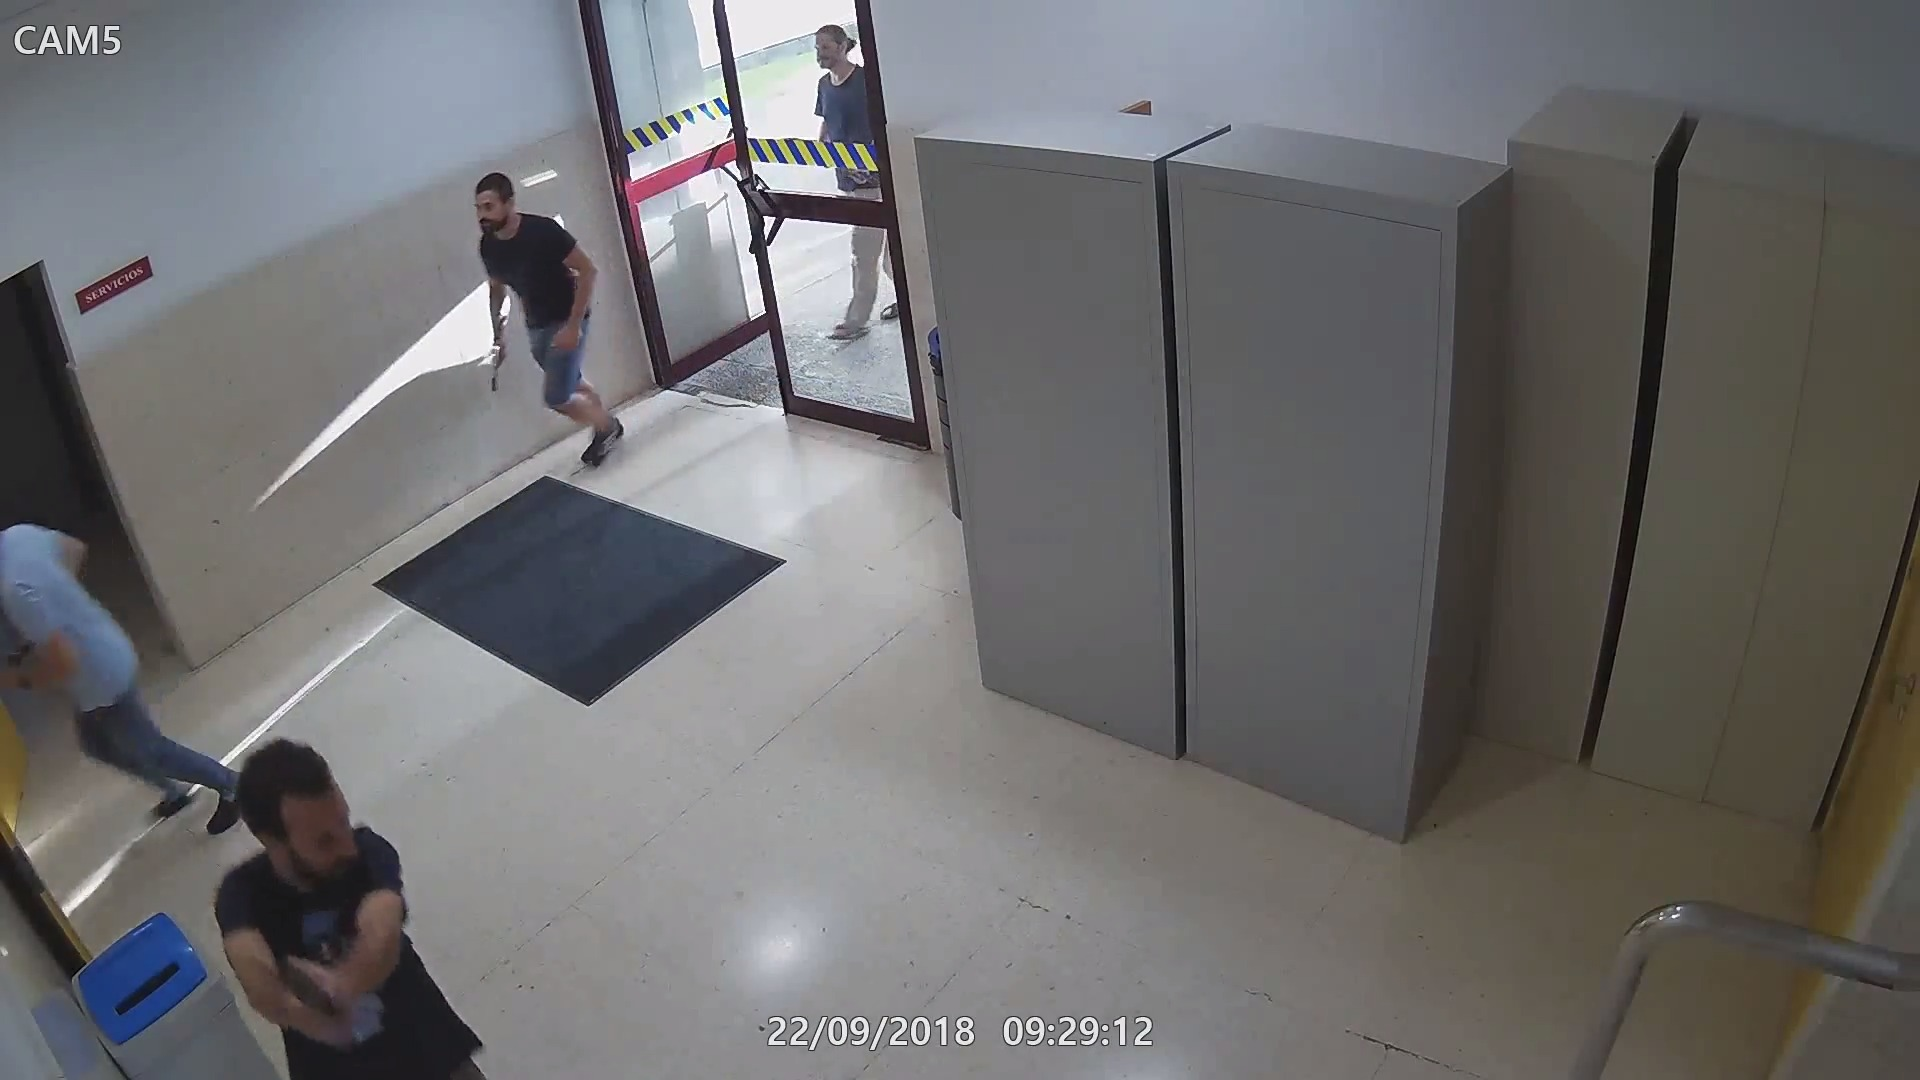pistol: (272, 957, 364, 1050), (487, 334, 513, 397)
